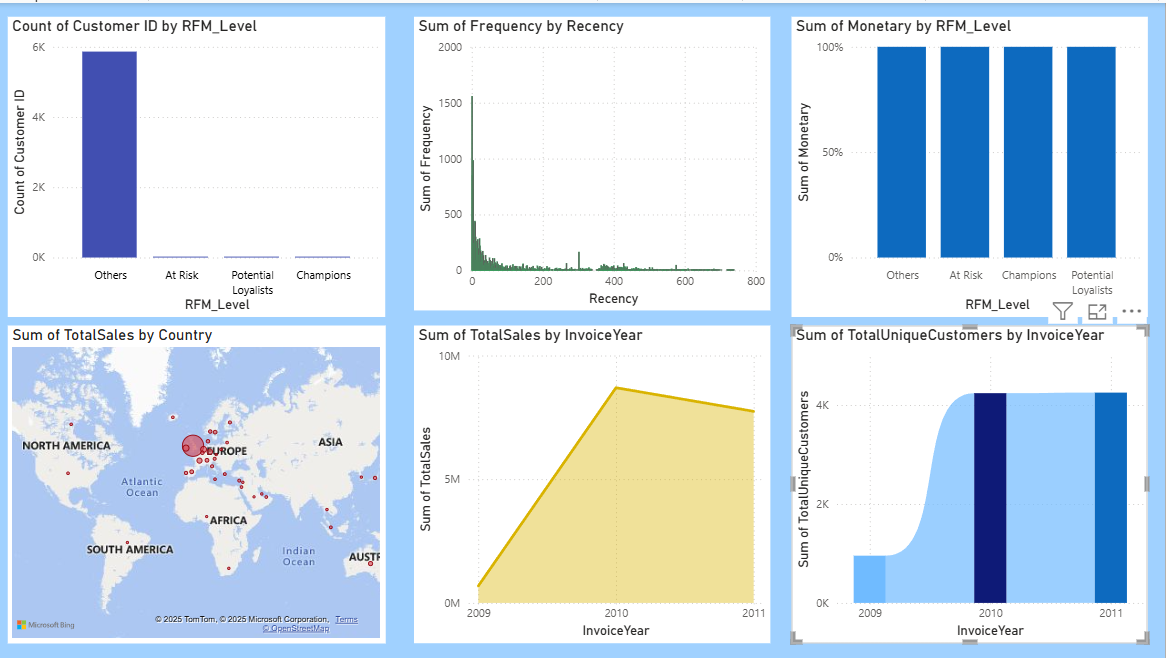

This screenshot's page, from the dashboard's own definition file:
{"tool":"powerbi","page":{"name":"Page 1","canvas":[1280,720],"ordinal":0},"visuals":[{"type":"lineClusteredColumnComboChart","fields":{"Category":["rfm_analysis.RFM_Level"],"Y":["CountNonNull(rfm_analysis.Customer ID)"]},"box":[9.6,15.1,414.4,329.3],"z":0},{"type":"lineClusteredColumnComboChart","fields":{"Category":["rfm_analysis.Recency"],"Y":["Sum(rfm_analysis.Frequency)"]},"box":[455.6,15.1,391.1,322.5],"z":1000},{"type":"hundredPercentStackedColumnChart","fields":{"Category":["rfm_analysis.RFM_Level"],"Y":["Sum(rfm_analysis.Monetary)"]},"box":[870,15.1,391.1,329.3],"z":2000},{"type":"map","fields":{"Category":["sales_summary.Country"],"Size":["Sum(sales_summary.TotalSales)"]},"box":[9.6,354,414.4,348.5],"z":3000},{"type":"lineChart","fields":{"Category":["sales_summary.InvoiceYear"],"Y":["Sum(sales_summary.TotalSales)"]},"box":[455.6,354,391.1,348.5],"z":4000},{"type":"ribbonChart","fields":{"Category":["sales_summary.InvoiceYear"],"Y":["Sum(sales_summary.TotalUniqueCustomers)"]},"box":[870,354,391.1,348.5],"z":5000}]}

Visuals, with their boxes in screenshot pixels (x1, y1, x2, y2), scaled from the page's 1280x720 canvas onto the 1166x658 screenshot:
lineClusteredColumnComboChart - rfm_analysis.RFM_Level x CountNonNull(rfm_analysis.Customer ID): bbox=[9, 14, 386, 315]
lineClusteredColumnComboChart - rfm_analysis.Recency x Sum(rfm_analysis.Frequency): bbox=[415, 14, 771, 309]
hundredPercentStackedColumnChart - rfm_analysis.RFM_Level x Sum(rfm_analysis.Monetary): bbox=[793, 14, 1149, 315]
map - sales_summary.Country x Sum(sales_summary.TotalSales): bbox=[9, 324, 386, 642]
lineChart - sales_summary.InvoiceYear x Sum(sales_summary.TotalSales): bbox=[415, 324, 771, 642]
ribbonChart - sales_summary.InvoiceYear x Sum(sales_summary.TotalUniqueCustomers): bbox=[793, 324, 1149, 642]
